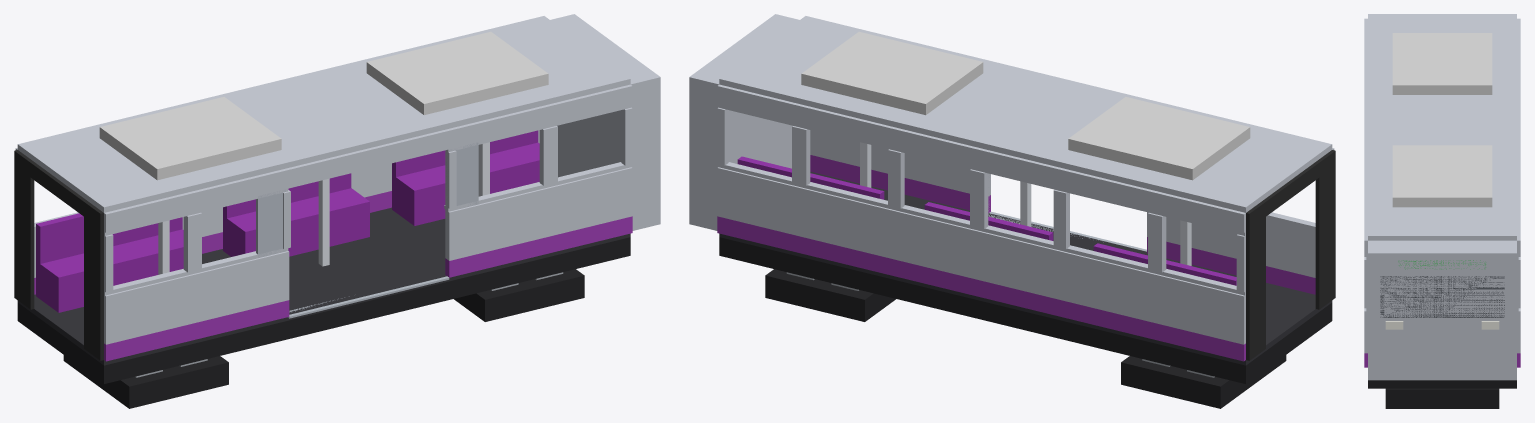
Rendered from metro_wagon_lead_l5.obj.
3 renders of one model, left to right at view 1: azimuth 30°, elevation 25°; view 2: azimuth 150°, elevation 25°; view 3: azimuth 270°, elevation 25°, orthographic. The views are drawn at different scales.
Size of the model in its own units: 3.16 by 1.26 by 0.88.
